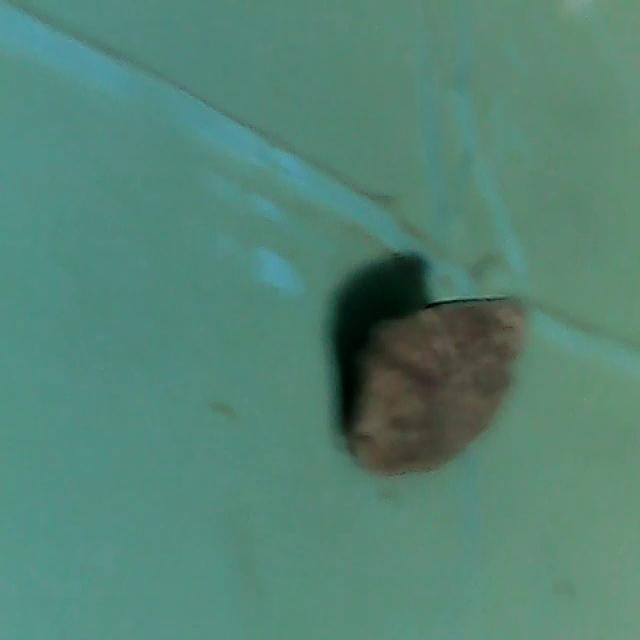rock: (338, 280, 532, 487)
